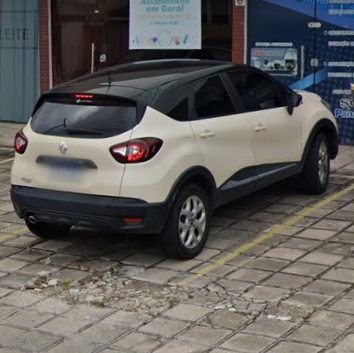car: (8, 48, 342, 260)
